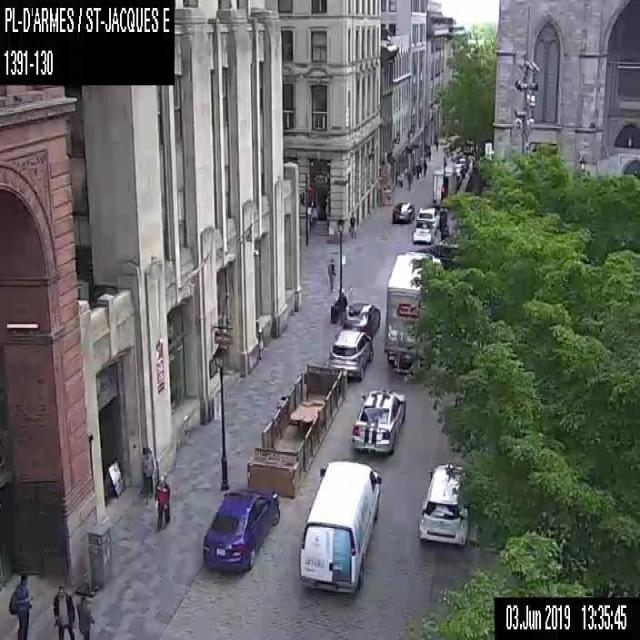pedestrian: (7, 569, 33, 639), (52, 584, 74, 638), (139, 446, 155, 504), (153, 476, 170, 530), (74, 595, 94, 639), (326, 256, 336, 290), (347, 210, 355, 238), (422, 157, 427, 176)
vehicle: (298, 459, 382, 595), (384, 252, 442, 379), (201, 486, 280, 573), (418, 462, 468, 544), (349, 386, 406, 454), (326, 330, 374, 380), (414, 242, 462, 269), (342, 301, 380, 334), (432, 168, 458, 202), (416, 206, 439, 234), (412, 219, 433, 244), (392, 201, 414, 223)
